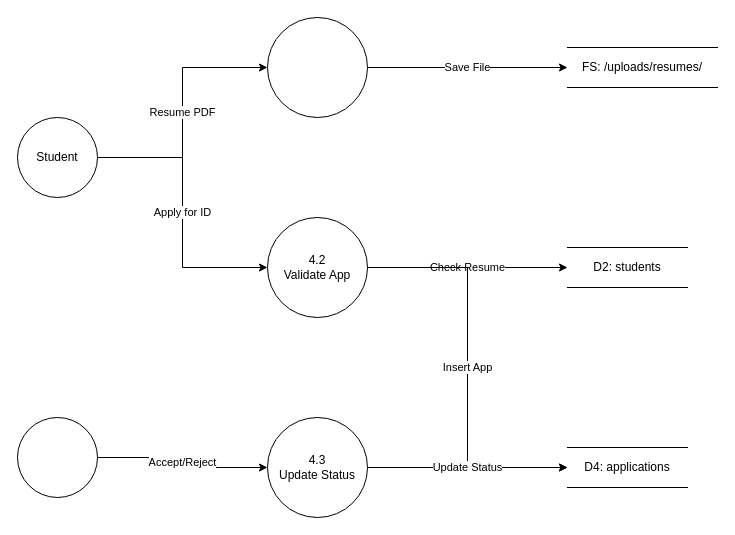
Image size: 735x535. Some labels were removed from this diagram. Here are the shapes that lost their labels. From the top down, the centre of each, then its label:
pixel 317 67: 4.1 Upload Resume (Multer)
pixel 57 457: Company
